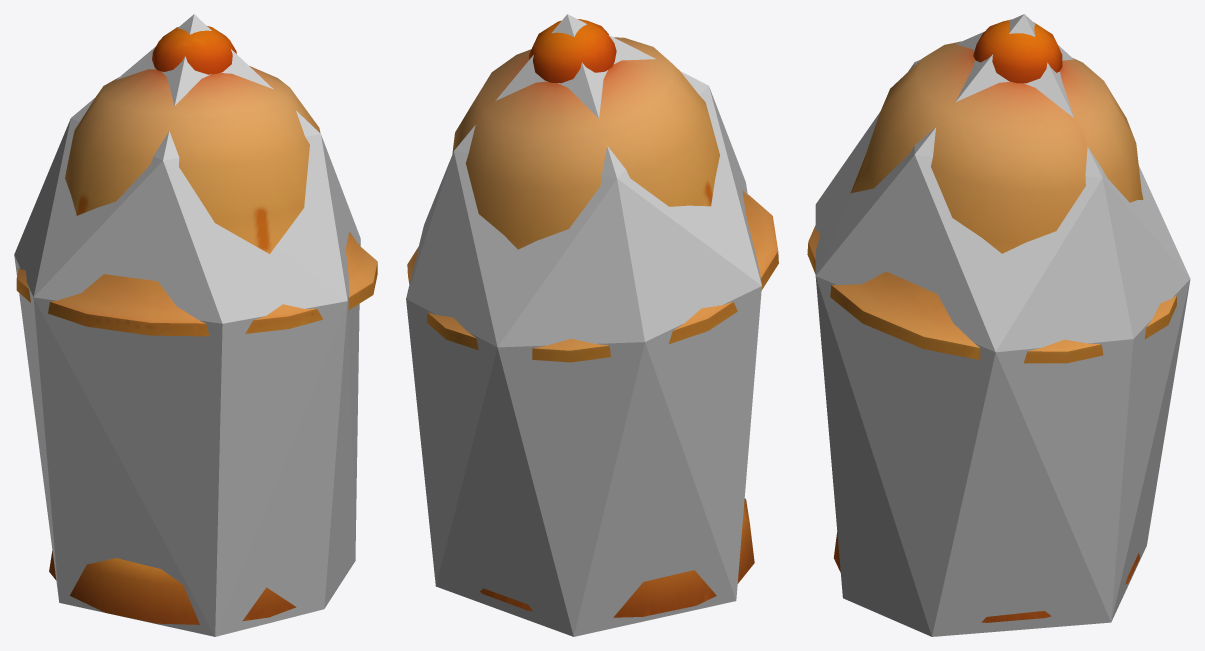
File: SM_LampTable02.fbx
3 views of the same model, side by side, from view 1: azimuth 30°, elevation 25°; view 2: azimuth 150°, elevation 25°; view 3: azimuth 270°, elevation 25° (orthographic). The views are drawn at different scales.
Visible parts, largest first — view 1: SM_LampTable02_ConvexHulls, SM_LampTable02; view 2: SM_LampTable02_ConvexHulls, SM_LampTable02; view 3: SM_LampTable02_ConvexHulls, SM_LampTable02.
Boxes of the visible parts, box(x1,y1,x2,y2) form: SM_LampTable02_ConvexHulls: box(14, 14, 360, 636); SM_LampTable02: box(16, 26, 377, 624); SM_LampTable02_ConvexHulls: box(406, 14, 761, 636); SM_LampTable02: box(407, 19, 778, 617); SM_LampTable02_ConvexHulls: box(815, 14, 1190, 636); SM_LampTable02: box(807, 19, 1176, 622).
Bounding box in the file's own units: 30.71 × 29.99 × 48.83.
Materials: 2 (1 with a texture image).
